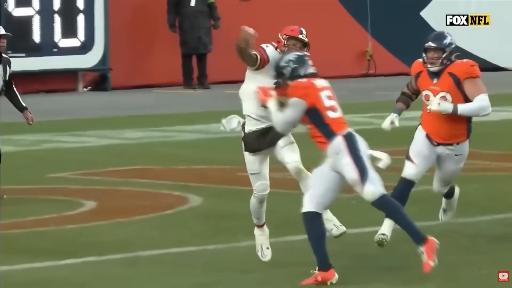Helmet: (423, 31, 456, 71), (275, 52, 317, 83), (278, 26, 310, 51)
Jersey: (411, 59, 481, 144), (287, 78, 348, 150), (239, 43, 281, 131)
Player: (259, 52, 438, 285), (382, 31, 491, 221), (236, 26, 310, 261)
